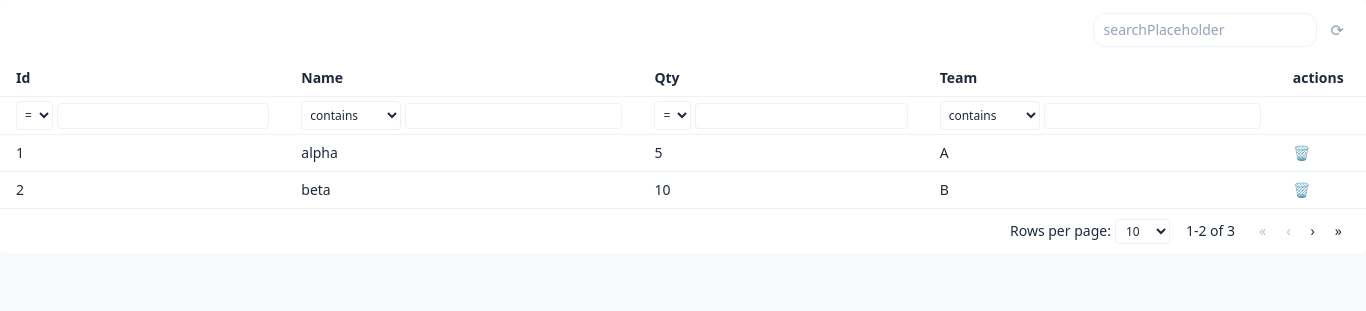
Test: Table › inline delete failure shows role='alert' error banner
Click the button titled "deleteTooltip" in the row of "alpha": (1301, 153) top-left (1293, 143), bottom-right (1310, 163)
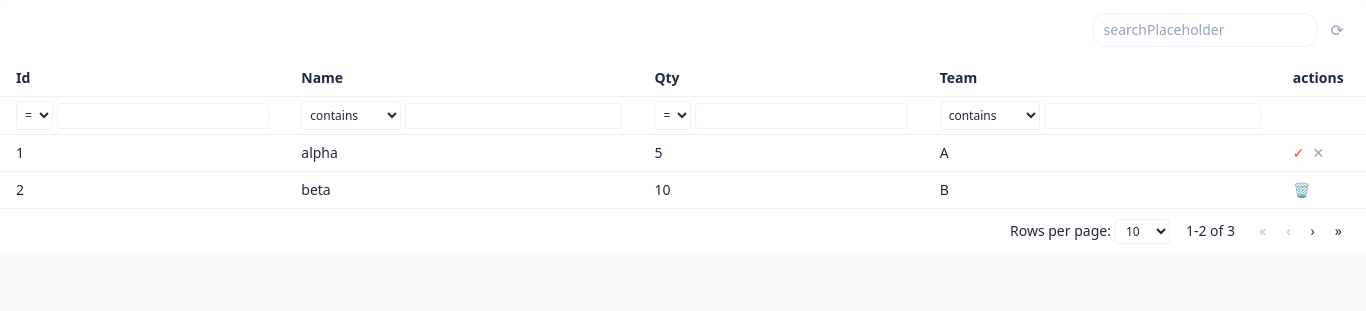
Click the button titled "deleteTooltip": (1299, 153) top-left (1293, 143), bottom-right (1304, 163)
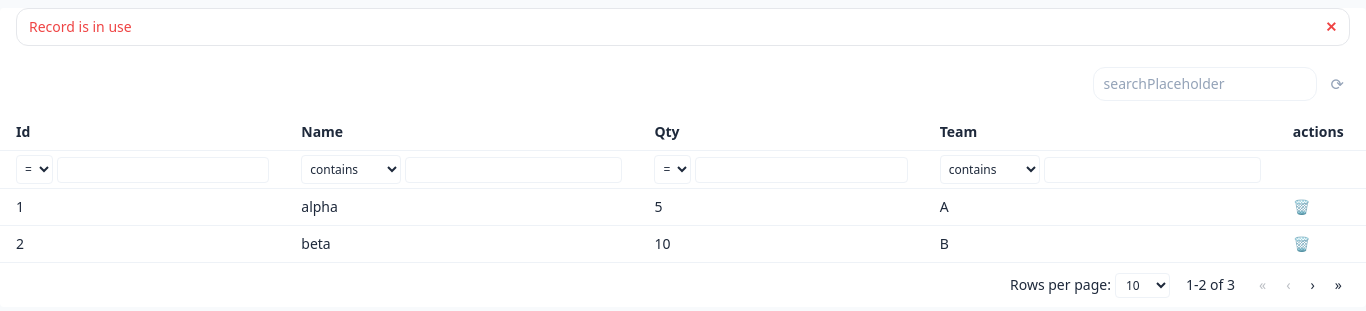
Result: the message shows "Record is in use" at top-left (29, 17), bottom-right (132, 36)
